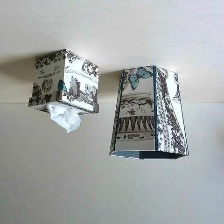plastic_box: (104, 61, 195, 165), (23, 45, 104, 120)
tissue: (41, 99, 87, 137)
